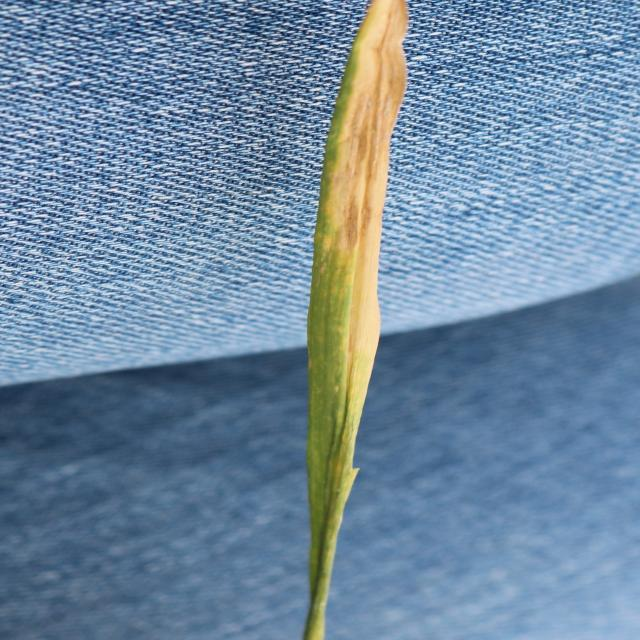Septoria: (300, 1, 410, 638)
